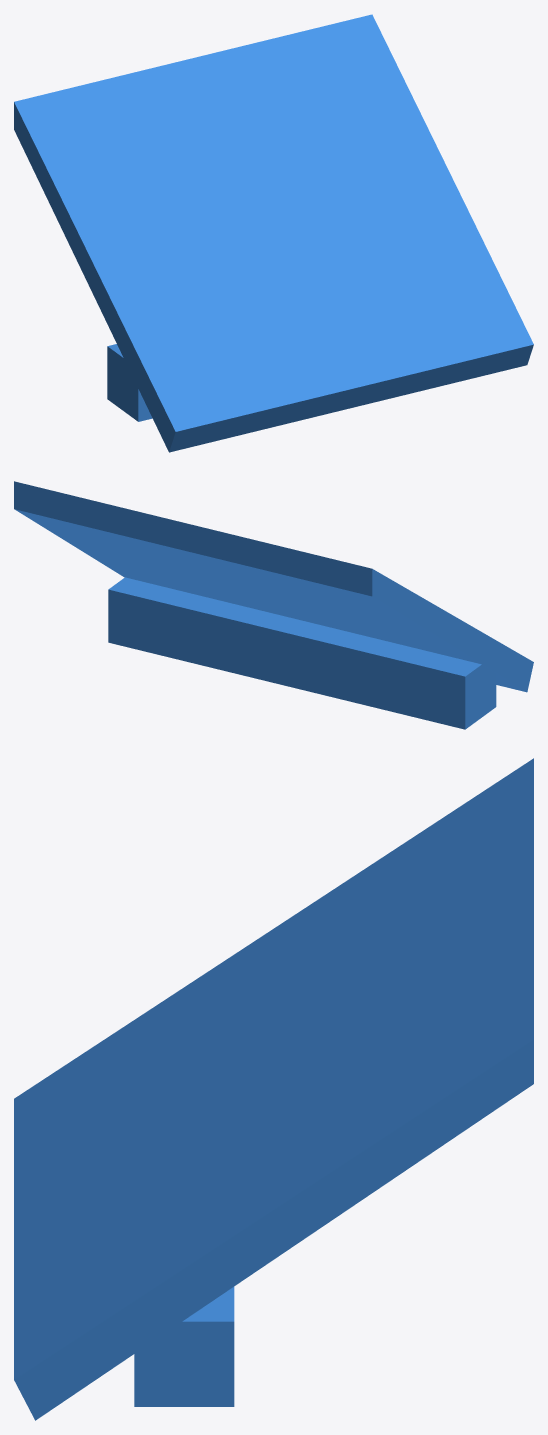
File: Collision_Roof_Wooden_2x1_Center.fbx
3 renders of one model, top to bottom at view 1: azimuth 30°, elevation 25°; view 2: azimuth 150°, elevation 25°; view 3: azimuth 270°, elevation 25°, orthographic. The views are drawn at different scales.
Visible parts, largest first — view 1: UCX_Roof_Wooden_2x1_Center_1; view 2: UCX_Roof_Wooden_2x1_Center_1; view 3: UCX_Roof_Wooden_2x1_Center_1.
Part boxes in pixels (x1,y1,x2,y2): UCX_Roof_Wooden_2x1_Center_1: (14,14,533,452); UCX_Roof_Wooden_2x1_Center_1: (14,481,533,729); UCX_Roof_Wooden_2x1_Center_1: (14,758,533,1420).
Bounding box in the file's own units: 200 × 127 × 156.
